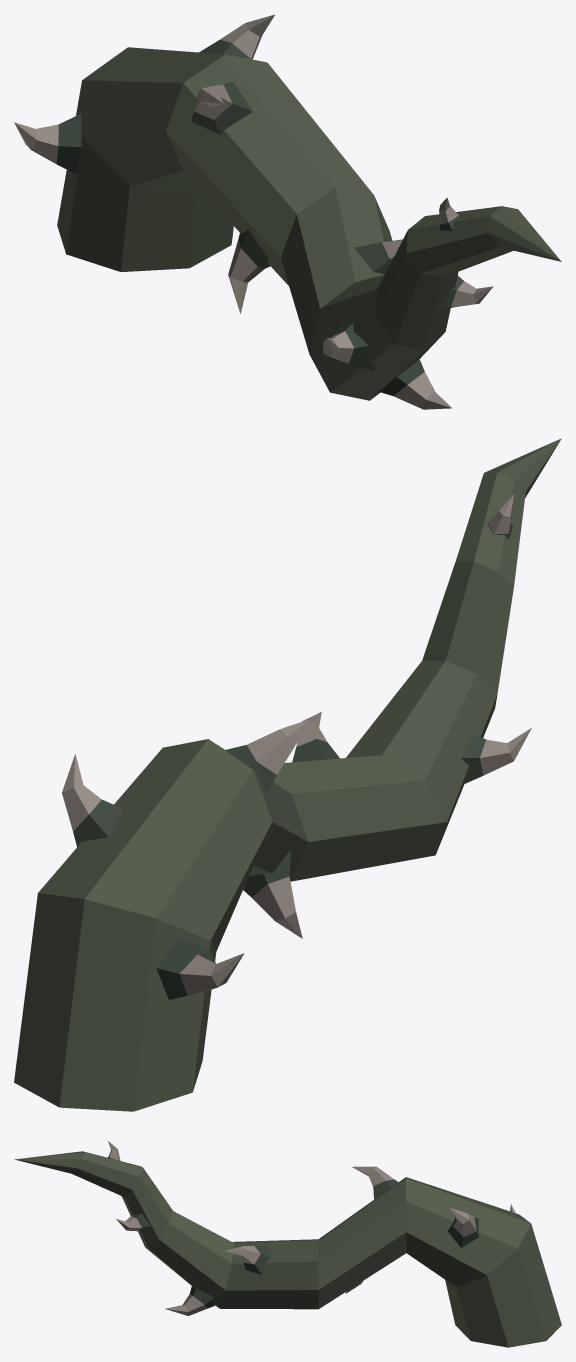
3 renders of one model, top to bottom at view 1: azimuth 30°, elevation 25°; view 2: azimuth 150°, elevation 25°; view 3: azimuth 270°, elevation 25°, orthographic. The views are drawn at different scales.
Parts seen in each view (by area): view 1: SM_Env_Vine_Spikes_01; view 2: SM_Env_Vine_Spikes_01; view 3: SM_Env_Vine_Spikes_01.
Boxes of the visible parts, bbox=[...] form: SM_Env_Vine_Spikes_01: bbox=[14, 14, 561, 409]; SM_Env_Vine_Spikes_01: bbox=[14, 438, 561, 1111]; SM_Env_Vine_Spikes_01: bbox=[14, 1141, 561, 1347].
Size of the model in its own units: 0.8518 by 1.13 by 3.21.
1 material, 1 textured.
